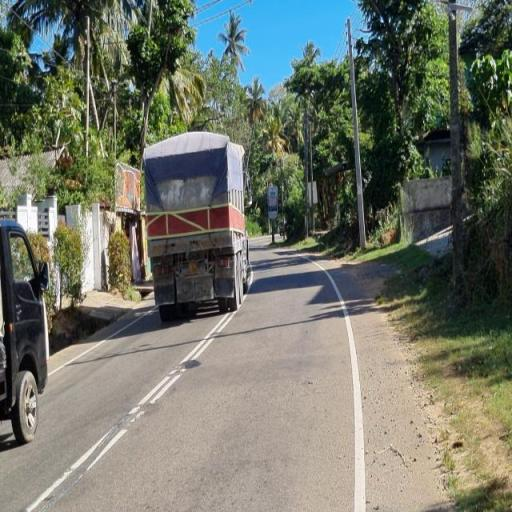double_white_line: (124, 308, 242, 423)
